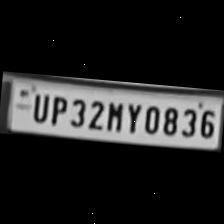0: (138, 101, 161, 135)
2: (84, 96, 106, 131)
3: (178, 104, 199, 138), (66, 94, 86, 128)
6: (196, 106, 217, 140)
8: (159, 104, 180, 136)
M: (103, 99, 124, 133)
P: (46, 92, 68, 125)
U: (28, 90, 48, 124)
Y: (121, 100, 142, 136)
